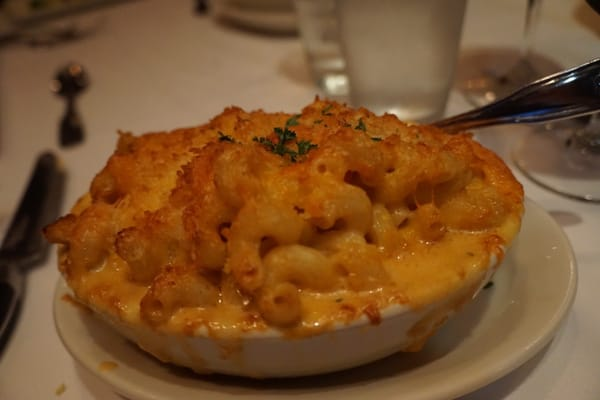sandwich: (0, 148, 62, 369), (429, 57, 599, 133)
